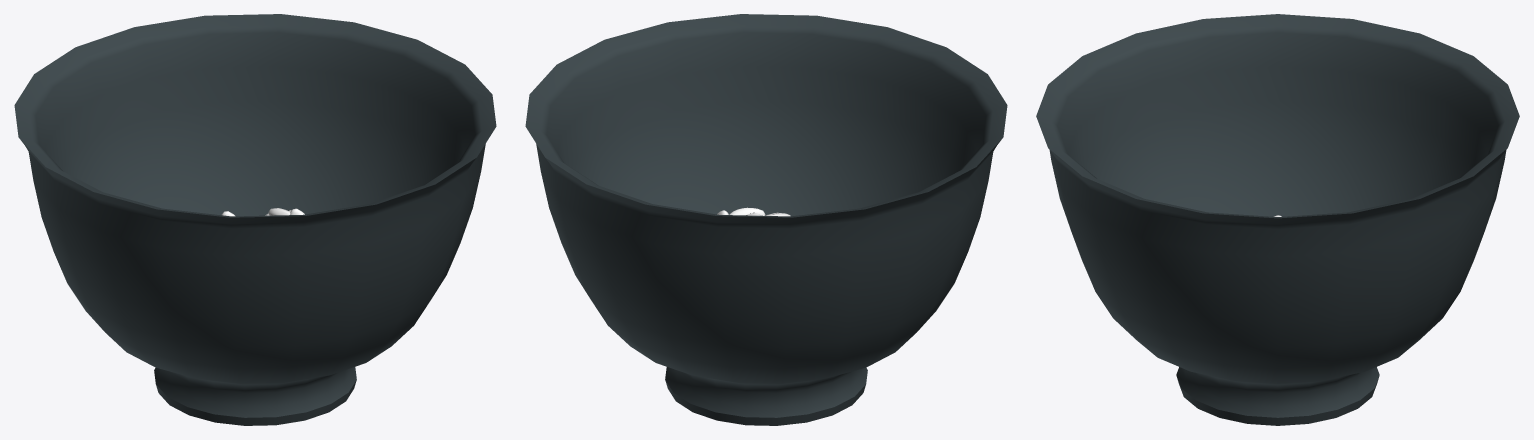
Rendered from Bowl_small.fbx.
The picture shows the model from 3 angles, left to right: view 1: azimuth 30°, elevation 25°; view 2: azimuth 150°, elevation 25°; view 3: azimuth 270°, elevation 25°; orthographic projection.
Visible parts, largest first — view 1: Bowl; view 2: Bowl; view 3: Bowl.
Boxes of the visible parts, x1=… form: Bowl: x1=14, y1=14, x2=496, y2=425; Bowl: x1=525, y1=14, x2=1007, y2=425; Bowl: x1=1036, y1=14, x2=1519, y2=425.
Size of the model in its own units: 397 by 242 by 397.
